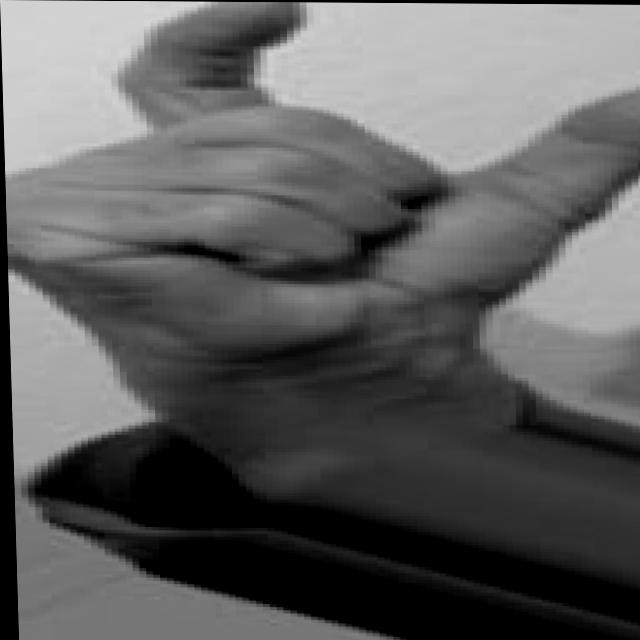U: (0, 0, 640, 417)
